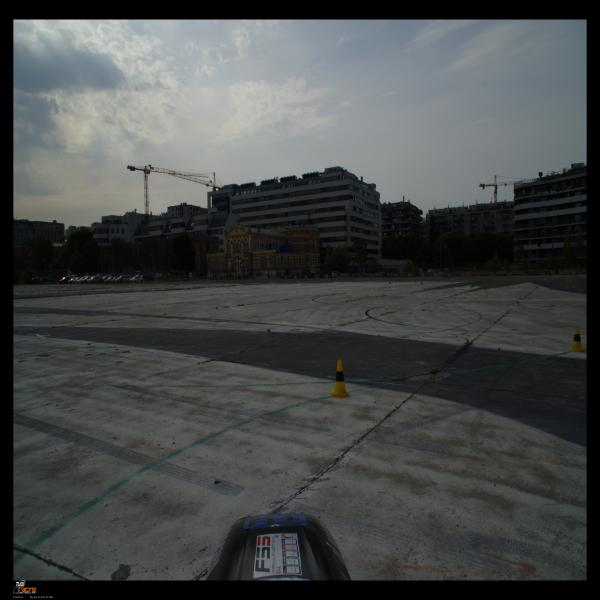orange_cone: (566, 278, 570, 284), (490, 277, 493, 283), (543, 277, 546, 282), (533, 278, 536, 283), (422, 278, 424, 284), (389, 278, 391, 284), (497, 277, 499, 282), (453, 277, 455, 282), (451, 278, 453, 282), (414, 278, 416, 282)
yellow_cone: (328, 359, 352, 399), (568, 326, 586, 352)
